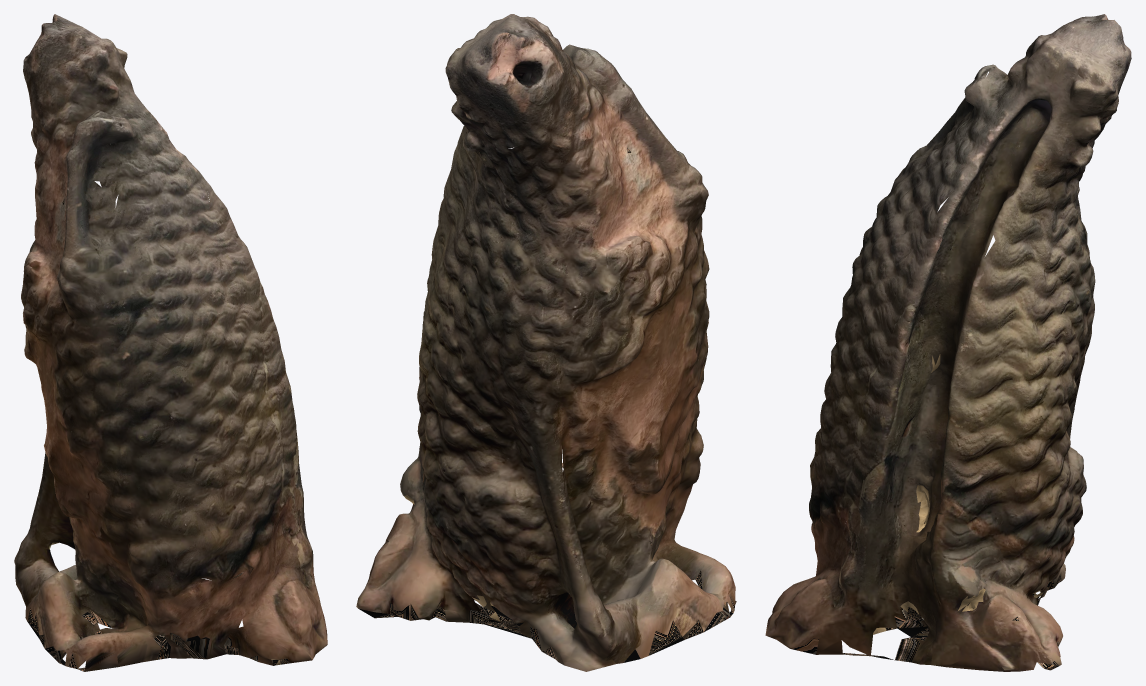
Rendered from 13_ram.gltf.
The picture shows the model from 3 angles, left to right: view 1: azimuth 30°, elevation 25°; view 2: azimuth 150°, elevation 25°; view 3: azimuth 270°, elevation 25°; orthographic projection. The views are drawn at different scales.
Visible parts, largest first — view 1: Mesh_0; view 2: Mesh_0; view 3: Mesh_0.
Boxes of the visible parts, x1,y1,x2,y2 form: Mesh_0: (14,14,327,671); Mesh_0: (356,14,736,671); Mesh_0: (765,14,1131,671).
Size of the model in its own units: 1.77 by 3.64 by 2.08.
8 materials, 8 textured.
